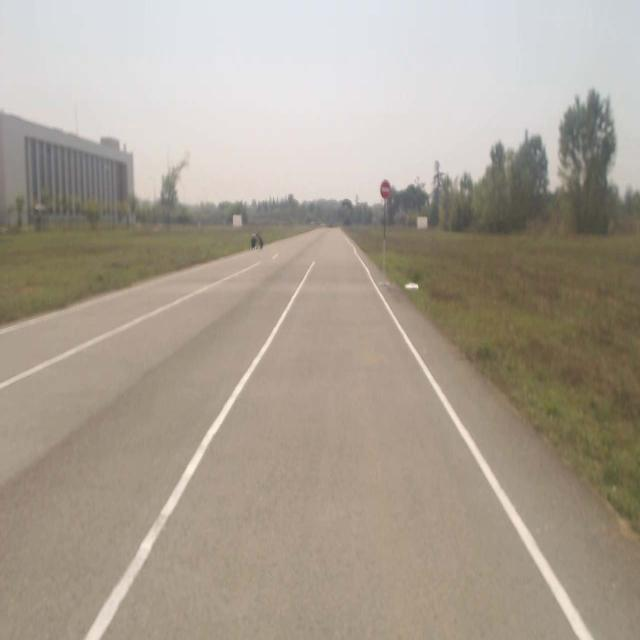girisyok: (380, 180, 390, 198)
